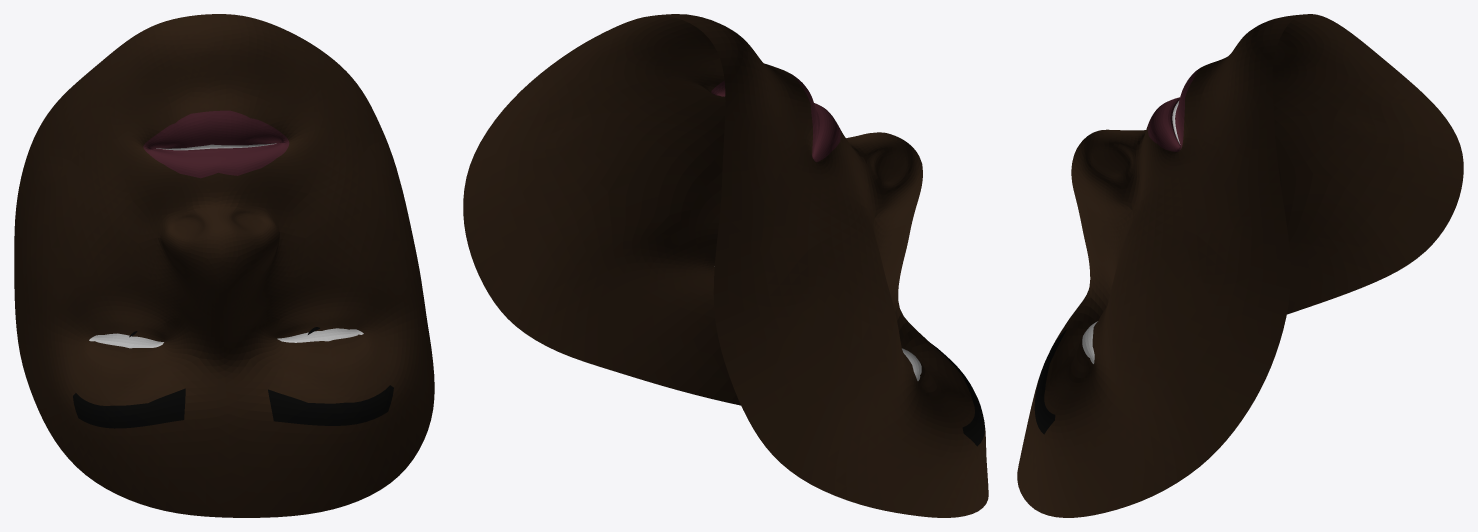
Rendered from VID-20250515-WA0005_f_00156.obj.
The picture shows the model from 3 angles, left to right: view 1: azimuth 30°, elevation 25°; view 2: azimuth 150°, elevation 25°; view 3: azimuth 270°, elevation 25°; orthographic projection. The views are drawn at different scales.
Parts seen in each view (by area): view 1: face_mesh_subdivided; view 2: face_mesh_subdivided; view 3: face_mesh_subdivided.
Boxes of the visible parts, <box> form: face_mesh_subdivided: <box>14,14,434,517</box>; face_mesh_subdivided: <box>463,14,988,517</box>; face_mesh_subdivided: <box>1017,14,1463,517</box>.
Size of the model in its own units: 0.5118 by 0.5465 by 0.4876.
